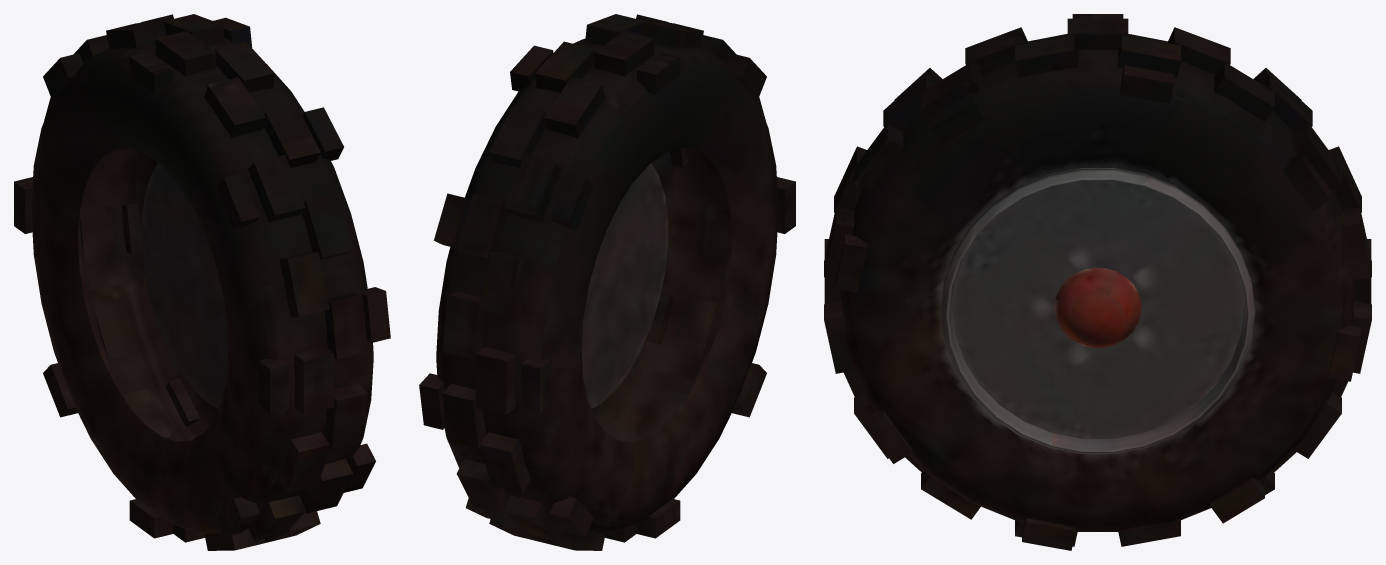
File: trike_wheel_front.glb
The picture shows the model from 3 angles, left to right: view 1: azimuth 30°, elevation 25°; view 2: azimuth 150°, elevation 25°; view 3: azimuth 270°, elevation 25°; orthographic projection. The views are drawn at different scales.
Parts seen in each view (by area): view 1: trike_wheel_front; view 2: trike_wheel_front; view 3: trike_wheel_front.
Boxes of the visible parts, bbox=[...] form: trike_wheel_front: bbox=[14, 14, 390, 550]; trike_wheel_front: bbox=[419, 14, 795, 550]; trike_wheel_front: bbox=[824, 14, 1371, 550].
Size of the model in its own units: 0.2068 by 0.7019 by 0.7019.
1 material, 1 textured.
